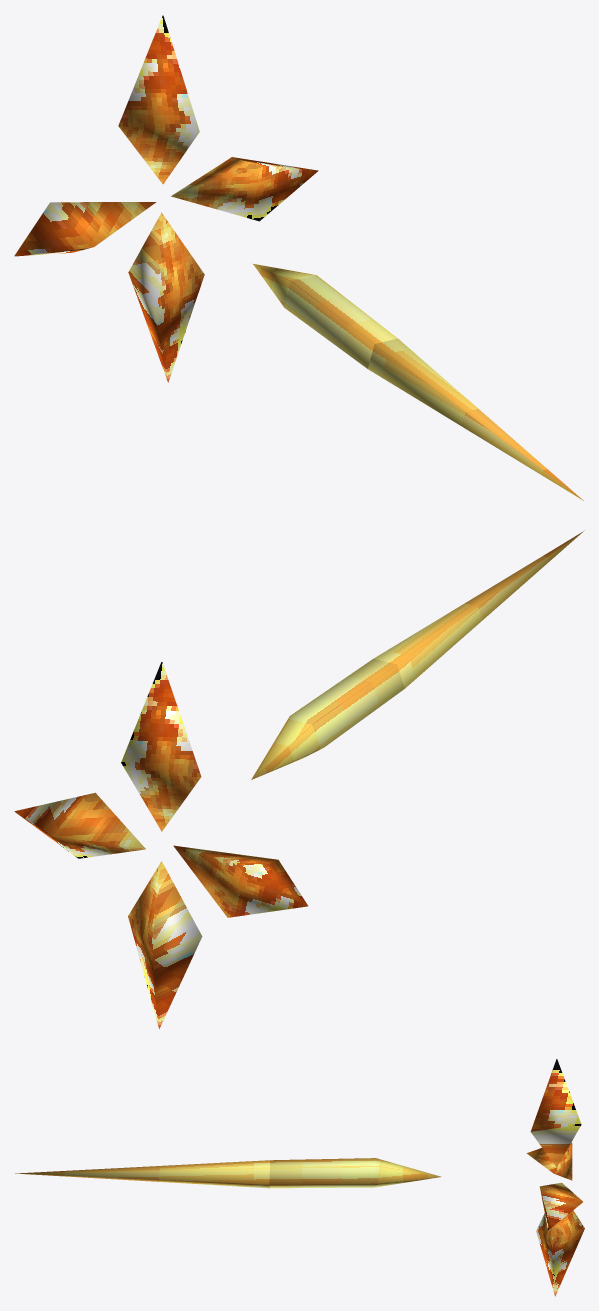
The model's file is flare.glb.
3 views of the same model, one above another, from view 1: azimuth 30°, elevation 25°; view 2: azimuth 150°, elevation 25°; view 3: azimuth 270°, elevation 25° (orthographic). The views are drawn at different scales.
Parts seen in each view (by area): view 1: Sphere; view 2: Sphere; view 3: Sphere.
Boxes of the visible parts, bbox=[...] form: Sphere: bbox=[14, 15, 583, 500]; Sphere: bbox=[14, 530, 584, 1028]; Sphere: bbox=[15, 1058, 584, 1296].
Bounding box in the file's own units: 1.71 × 2.02 × 4.39.
1 material, 1 textured.
